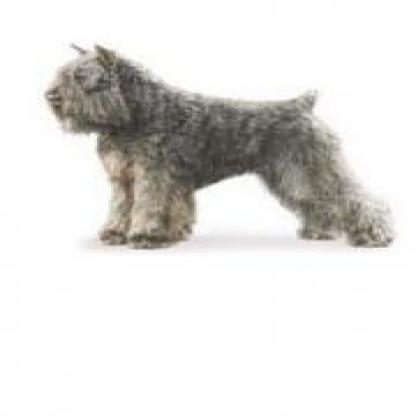Bouvier_des_Flandres: (44, 42, 395, 246)
